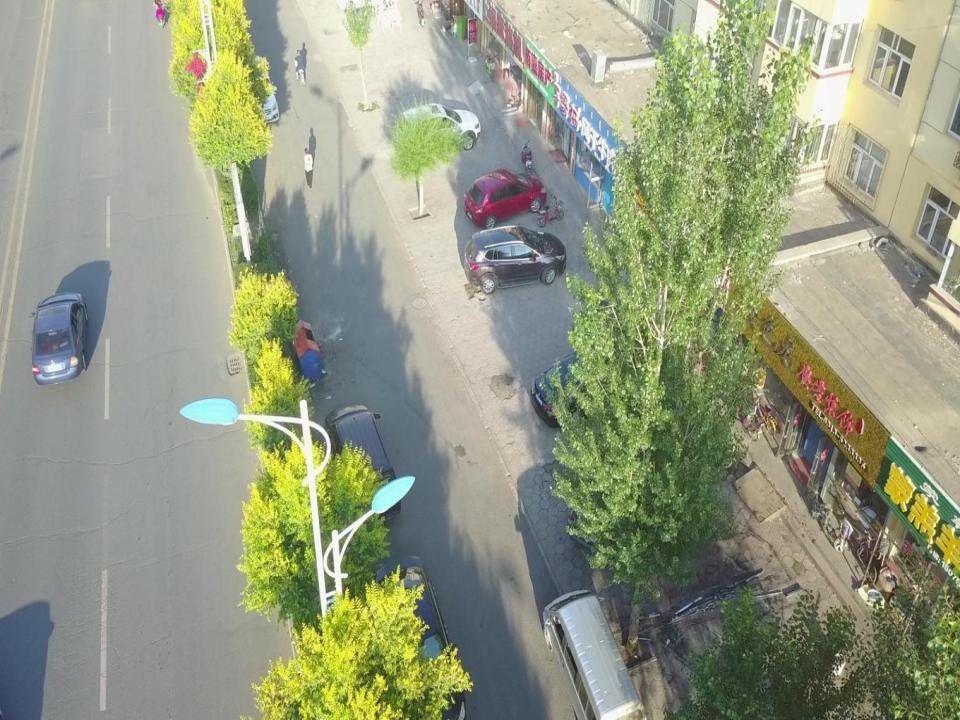car: (373, 552, 466, 720), (567, 443, 658, 556), (325, 401, 401, 529), (530, 350, 642, 426), (463, 225, 566, 293), (31, 291, 88, 384), (464, 168, 546, 232), (392, 102, 480, 154), (226, 54, 279, 125)
van: (542, 589, 645, 720)
